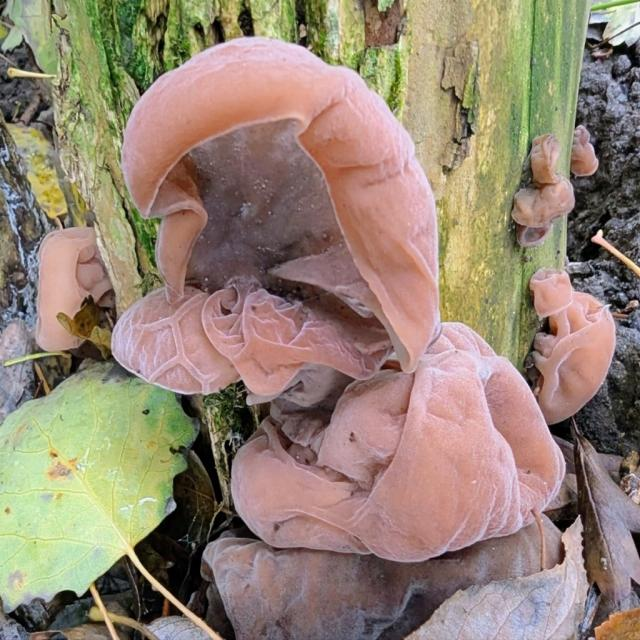Fase Muda: (534, 291, 618, 417), (513, 131, 572, 245), (527, 262, 574, 316), (570, 117, 602, 182)
Matang: (121, 29, 452, 378), (241, 330, 566, 565)
